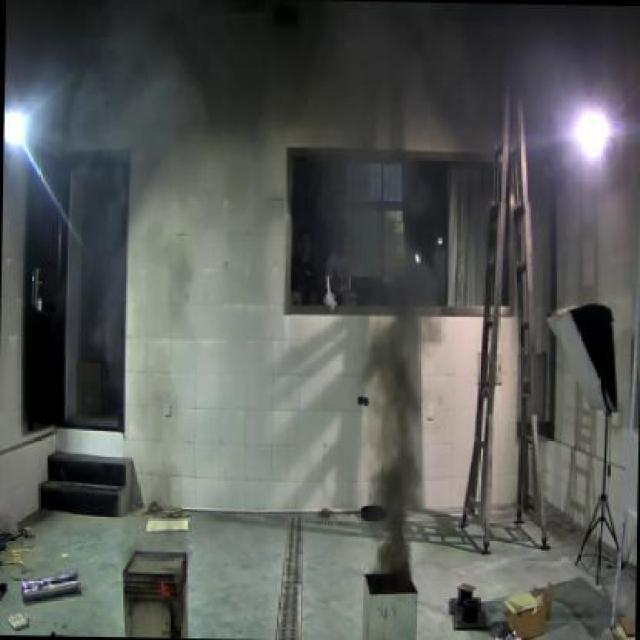fire: (362, 263, 442, 571), (134, 390, 186, 550)
